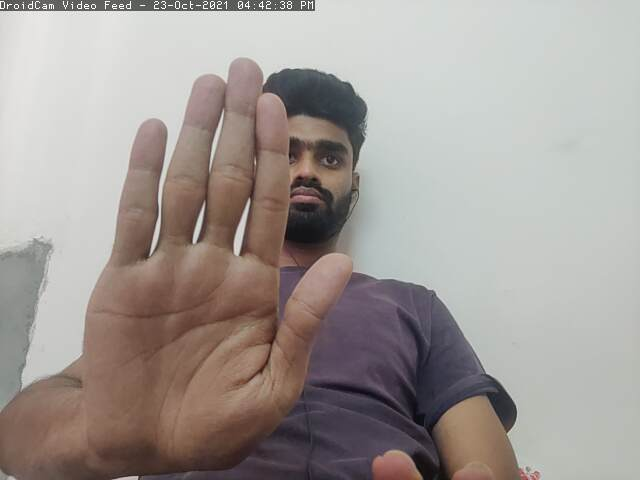Stop: (82, 58, 349, 462)
